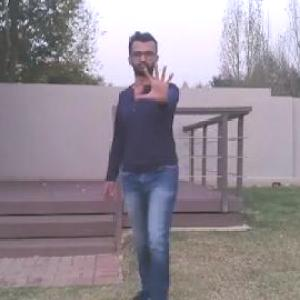follow_hand: (133, 58, 178, 103)
